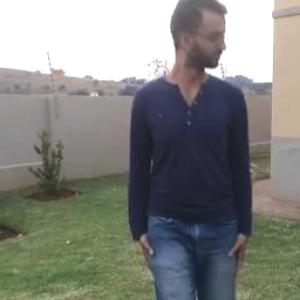follow: (132, 0, 256, 299)
